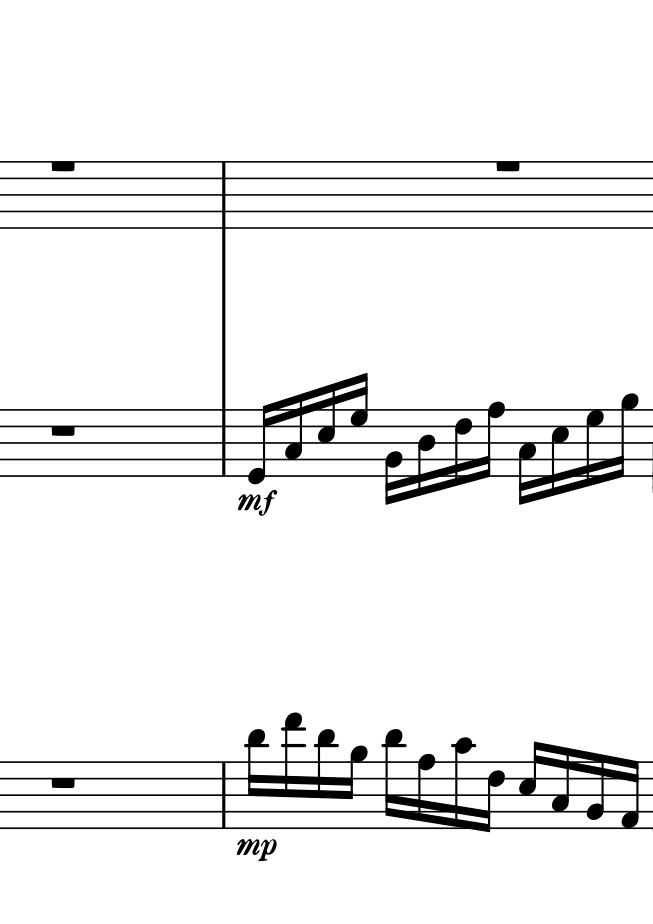16_0: (245, 401, 272, 485)
16_1: (618, 757, 640, 831)
16_10: (451, 735, 476, 831)
16_11: (313, 727, 337, 833), (244, 728, 267, 830), (383, 726, 404, 832)
16_13: (281, 709, 304, 833)
16_2: (383, 406, 403, 507), (586, 749, 608, 831)
16_3: (515, 407, 536, 505), (283, 389, 304, 479), (553, 744, 572, 830)
16_4: (414, 407, 436, 496)
16_5: (517, 738, 547, 830), (317, 381, 338, 479), (548, 407, 570, 496)
16_6: (481, 760, 509, 833), (451, 408, 473, 487)
16_7: (350, 370, 370, 478), (584, 408, 604, 486)
16_8: (479, 400, 506, 482), (415, 751, 437, 831)
16_9: (345, 744, 371, 831), (614, 393, 639, 479)
Rests1: (47, 772, 84, 793), (494, 154, 528, 176), (48, 423, 85, 440), (48, 157, 82, 174)
Single_barline: (212, 409, 236, 477), (214, 160, 234, 231), (214, 761, 234, 831)
mf: (232, 490, 282, 518)
mp: (235, 834, 277, 867)
